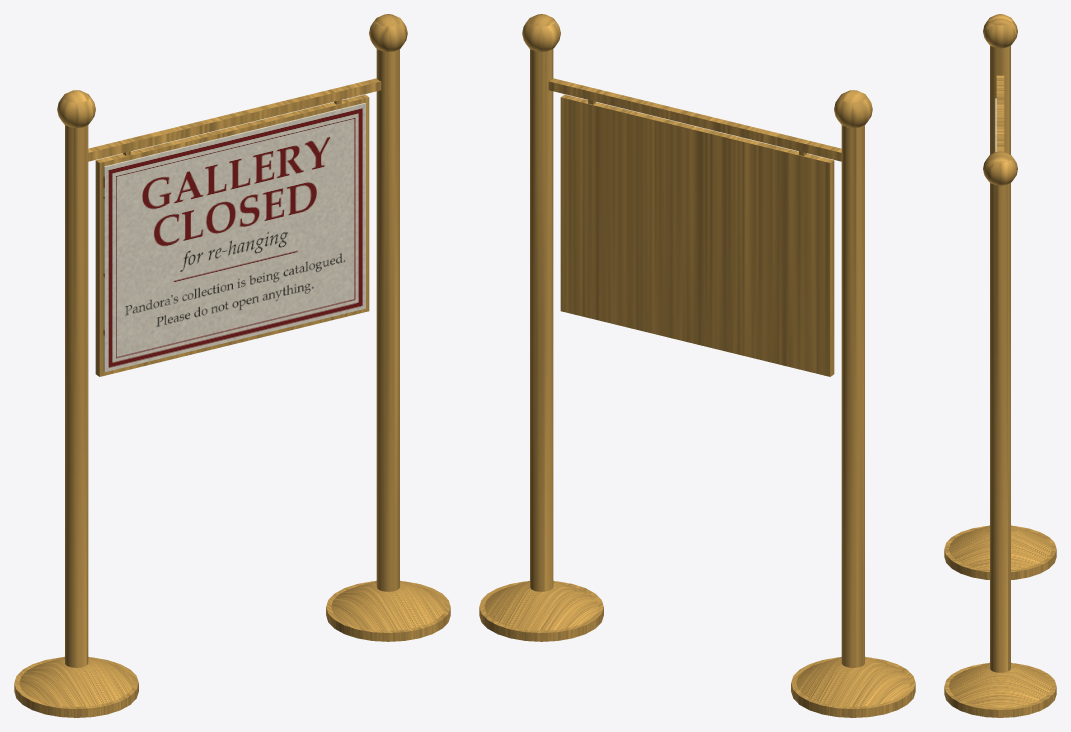
Rendered from gallery_closed.gltf.
3 views of the same model, side by side, from view 1: azimuth 30°, elevation 25°; view 2: azimuth 150°, elevation 25°; view 3: azimuth 270°, elevation 25° (orthographic). The views are drawn at different scales.
Visible parts, largest first — view 1: GalleryClosed; view 2: GalleryClosed; view 3: GalleryClosed.
Part boxes in pixels (x1=…): GalleryClosed: x1=14, y1=14, x2=450, y2=717; GalleryClosed: x1=479, y1=14, x2=915, y2=717; GalleryClosed: x1=944, y1=14, x2=1056, y2=717.
Bounding box in the file's own units: 0.996 × 1.36 × 0.256.
Materials: 2 (2 with a texture image).
